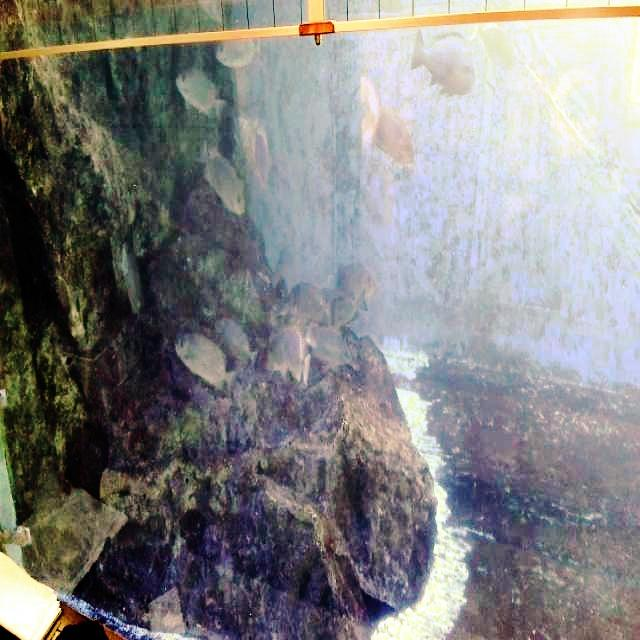gold snapper: (409, 24, 483, 106), (168, 321, 238, 407), (194, 136, 252, 224), (366, 100, 416, 180), (175, 62, 228, 136), (213, 312, 261, 372), (209, 24, 269, 72), (282, 319, 314, 396)
